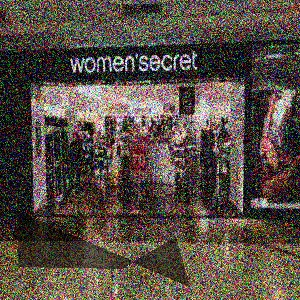women_secret: (167, 24, 229, 73)
